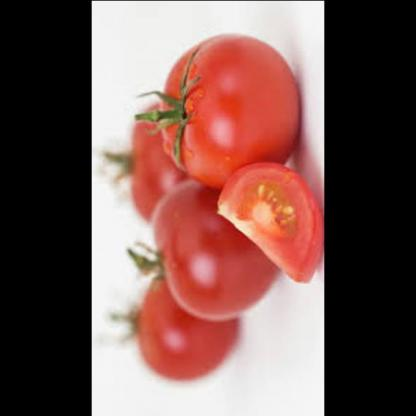tomato: (147, 32, 303, 184), (144, 179, 275, 323), (212, 155, 323, 290), (124, 276, 244, 385), (114, 98, 194, 218)
